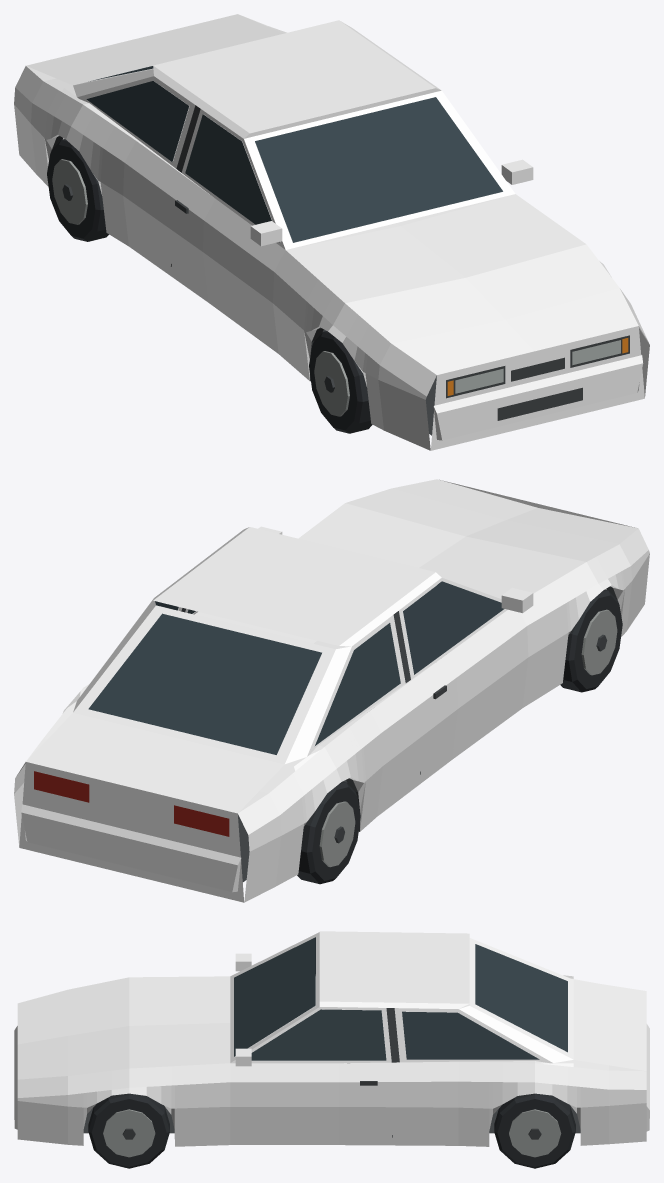
Rendered from wexmoor_heath.glb.
3 views of the same model, one above another, from view 1: azimuth 30°, elevation 25°; view 2: azimuth 150°, elevation 25°; view 3: azimuth 270°, elevation 25° (orthographic). The views are drawn at different scales.
Visible parts, largest first — view 1: wexmoor_heath; view 2: wexmoor_heath; view 3: wexmoor_heath.
Part boxes in pixels (x1=…): wexmoor_heath: x1=14, y1=14, x2=649, y2=450; wexmoor_heath: x1=14, y1=479, x2=649, y2=902; wexmoor_heath: x1=14, y1=931, x2=649, y2=1168.
Size of the model in its own units: 1.82 by 1.25 by 4.7.
8 materials, 1 textured.
